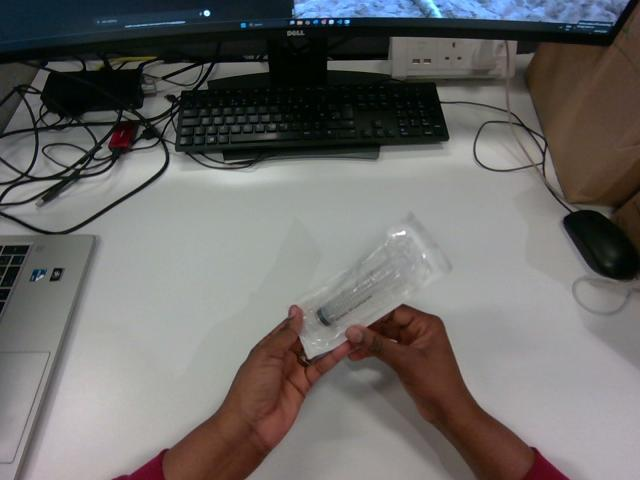syringe: (298, 213, 450, 359)
